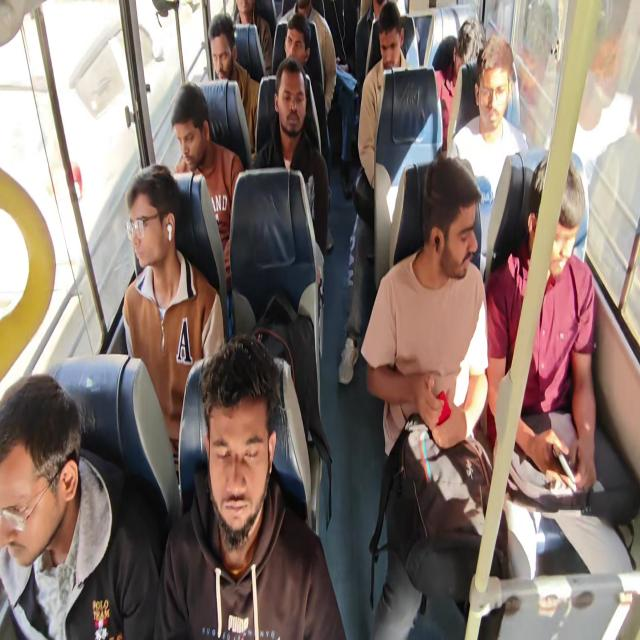person: (2, 1, 637, 638), (360, 152, 499, 638), (485, 153, 636, 580), (153, 334, 347, 638), (0, 373, 161, 639), (121, 163, 225, 483), (338, 2, 410, 384), (448, 35, 529, 276), (170, 82, 244, 329), (252, 55, 330, 258), (357, 1, 409, 188), (208, 12, 260, 154), (432, 16, 485, 148), (279, 0, 336, 116), (354, 0, 387, 99), (232, 0, 273, 75)
